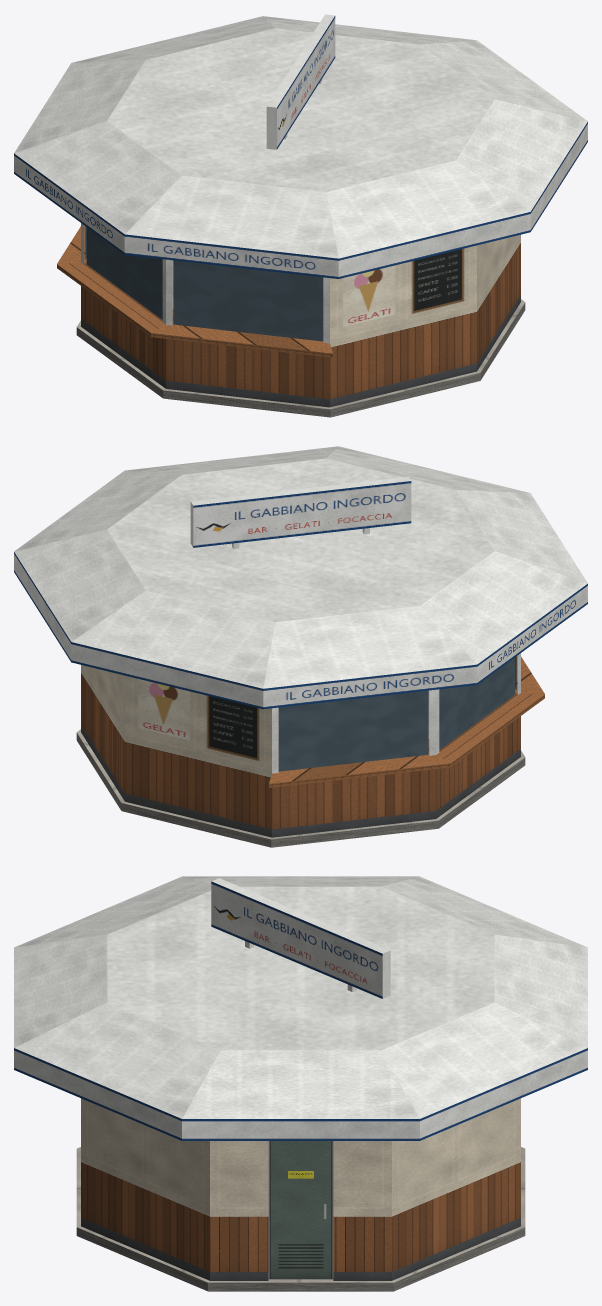
The model's file is SM_Morin_ChioscoOttagonale_v3_LOD2.fbx.
3 views of the same model, one above another, from view 1: azimuth 30°, elevation 25°; view 2: azimuth 150°, elevation 25°; view 3: azimuth 270°, elevation 25° (orthographic). The views are drawn at different scales.
Parts seen in each view (by area): view 1: SM_Morin_ChioscoOttagonale_v3_LOD2; view 2: SM_Morin_ChioscoOttagonale_v3_LOD2; view 3: SM_Morin_ChioscoOttagonale_v3_LOD2.
Part boxes in pixels (left/top/right/bottom): SM_Morin_ChioscoOttagonale_v3_LOD2: left=14, top=14, right=587, bottom=417; SM_Morin_ChioscoOttagonale_v3_LOD2: left=14, top=446, right=587, bottom=847; SM_Morin_ChioscoOttagonale_v3_LOD2: left=14, top=876, right=587, bottom=1291.
Size of the model in its own units: 711 by 711 by 384.
2 materials, 2 textured.
